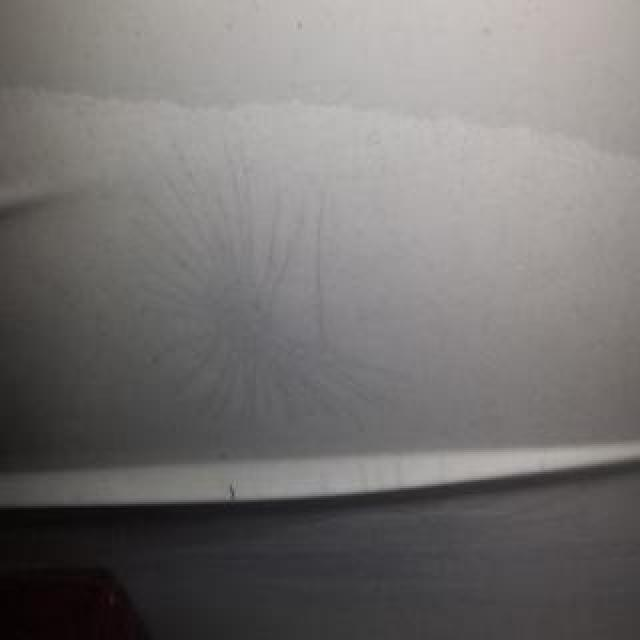crack: (133, 141, 411, 423), (312, 188, 328, 336)
